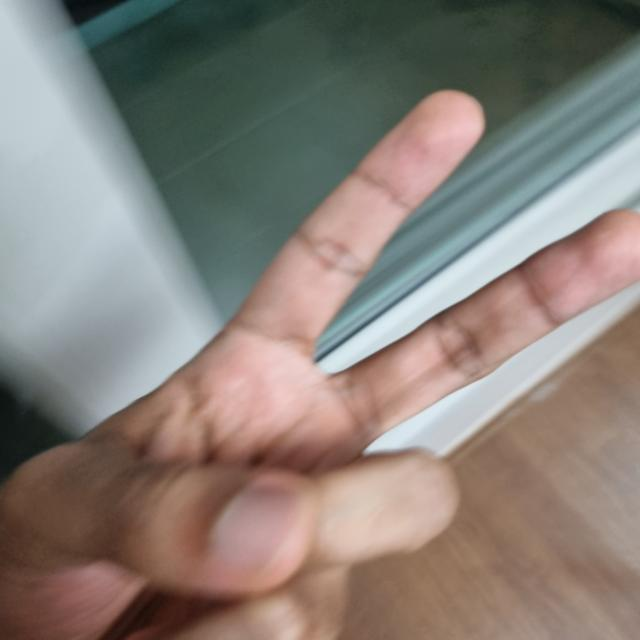Scissors: (0, 99, 638, 639)
